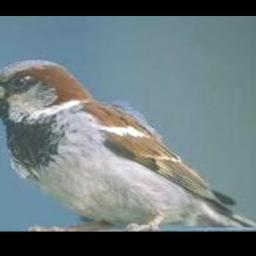Sparrow: (0, 59, 256, 231)
